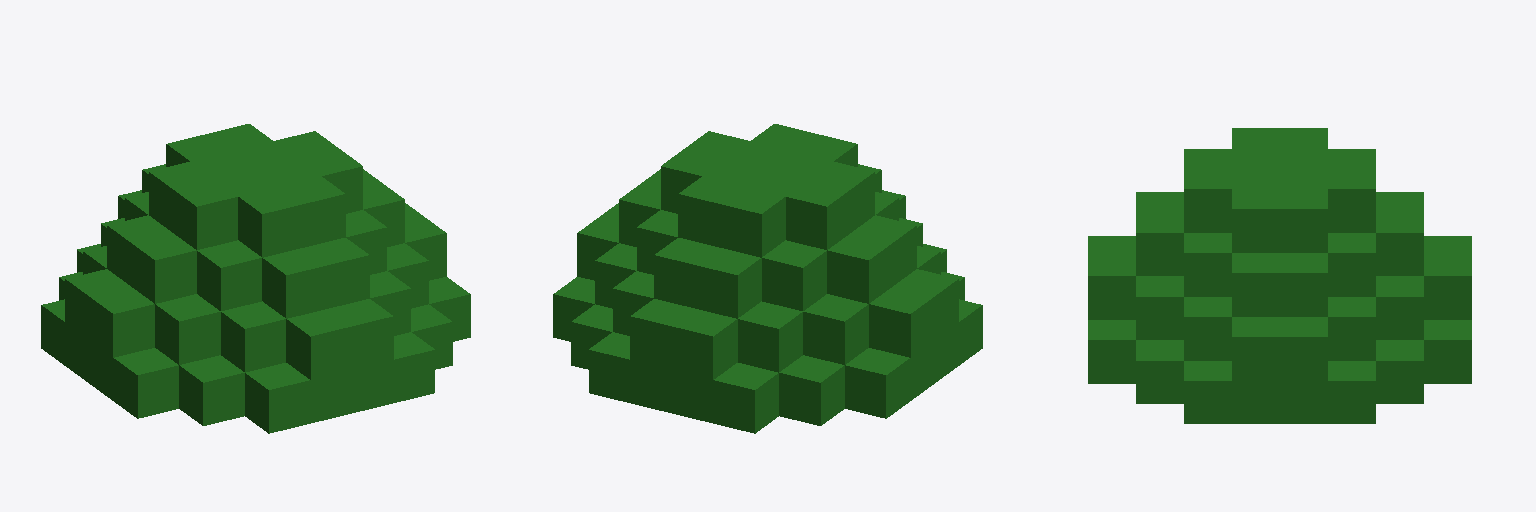
3 renders of one model, left to right at view 1: azimuth 30°, elevation 25°; view 2: azimuth 150°, elevation 25°; view 3: azimuth 270°, elevation 25°, orthographic.
Visible parts, largest first — view 1: object 1; view 2: object 1; view 3: object 1.
Boxes of the visible parts, x1,y1,x2,y2 form: object 1: [41, 124, 470, 433]; object 1: [553, 124, 982, 433]; object 1: [1088, 128, 1471, 423].
Bounding box in the file's own units: 0.8 × 0.4 × 0.8.
1 materials, 1 textured.